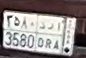0: (28, 21, 37, 49)
3: (5, 14, 13, 47)
5: (12, 16, 21, 48)
8: (19, 17, 28, 48)
A: (53, 21, 62, 51)
D: (37, 22, 46, 48)
R: (45, 22, 55, 50)
